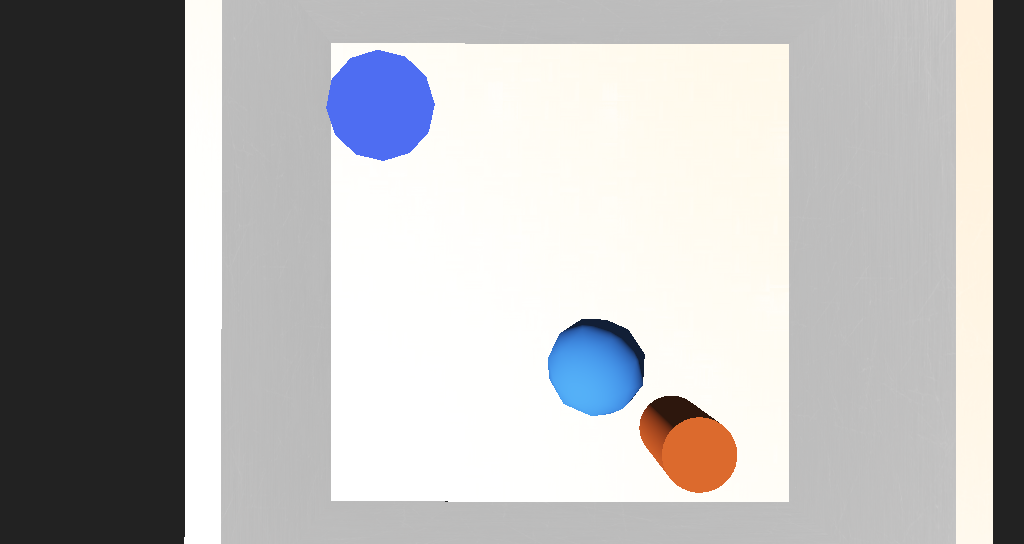cone: (559, 324, 613, 363)
cylinder: (360, 169, 435, 222)
sphere: (492, 286, 559, 334)
